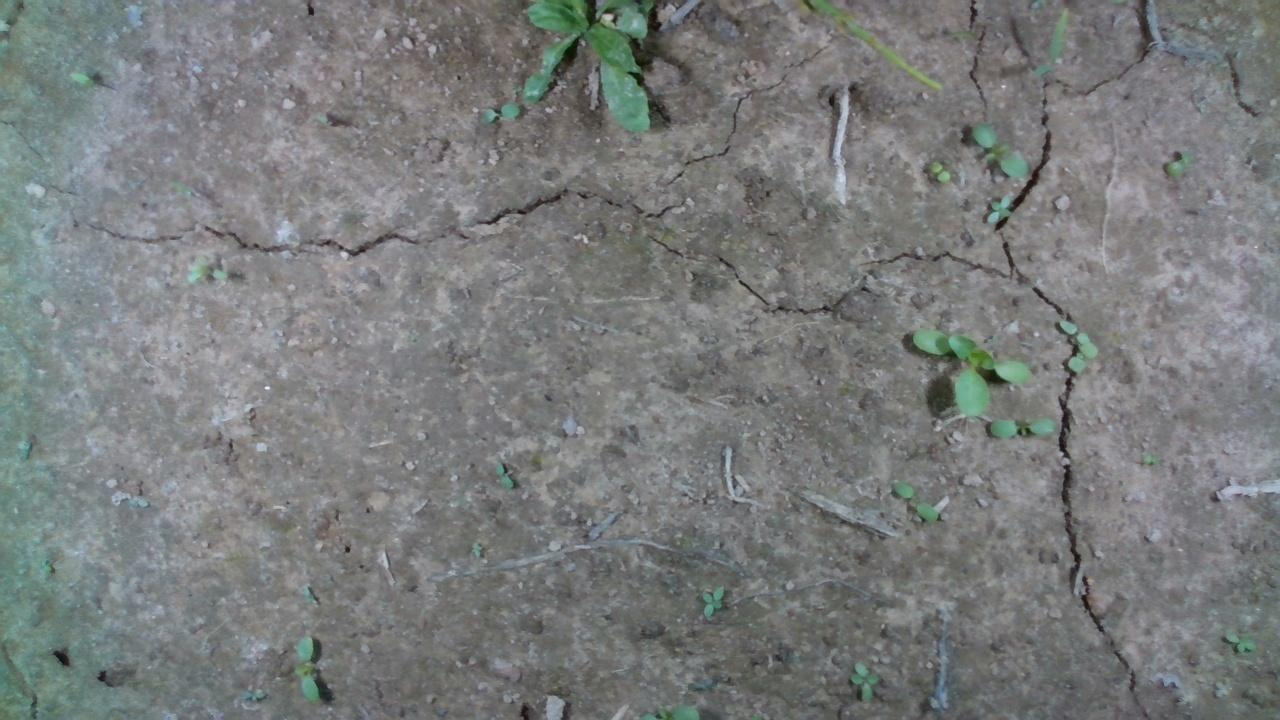weed: (967, 121, 1030, 176), (888, 479, 939, 521), (187, 256, 249, 289), (1160, 150, 1212, 183), (987, 417, 1058, 438), (1213, 627, 1256, 659), (55, 65, 99, 96), (696, 585, 731, 622), (984, 192, 1015, 233), (846, 657, 880, 694), (920, 158, 954, 186)
